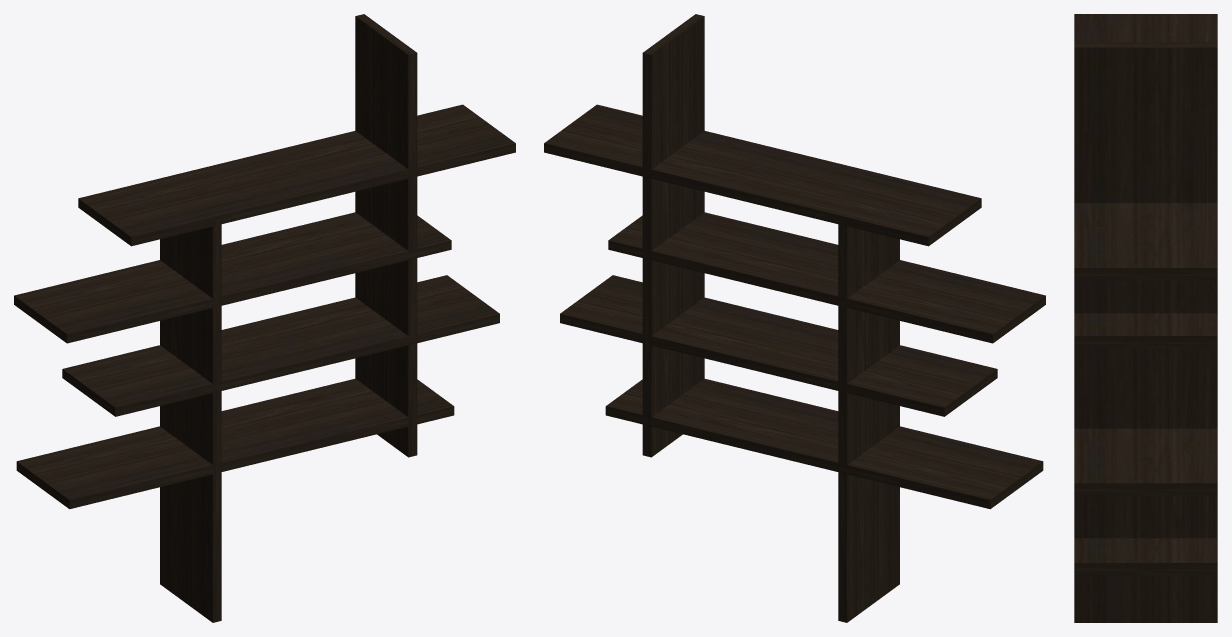
File: self9.FBX
The picture shows the model from 3 angles, left to right: view 1: azimuth 30°, elevation 25°; view 2: azimuth 150°, elevation 25°; view 3: azimuth 270°, elevation 25°; orthographic projection. The views are drawn at different scales.
Visible parts, largest first — view 1: self9; view 2: self9; view 3: self9.
Part boxes in pixels (bbox=[...]): self9: bbox=[14, 14, 515, 622]; self9: bbox=[544, 14, 1045, 622]; self9: bbox=[1074, 14, 1217, 622].
Bounding box in the file's own units: 13.51 × 14.96 × 2.76.
